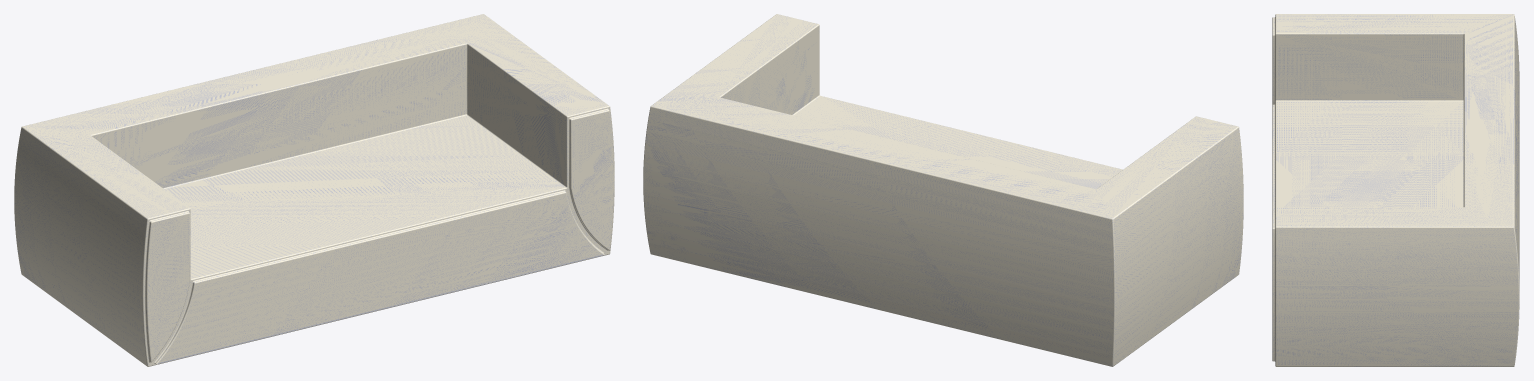
Rendered from sofa_frame.dae.
3 views of the same model, side by side, from view 1: azimuth 30°, elevation 25°; view 2: azimuth 150°, elevation 25°; view 3: azimuth 270°, elevation 25° (orthographic). The views are drawn at different scales.
Visible parts, largest first — view 1: group_0_001, group_0, group_0_002, group_0_003, group_0_007; view 2: group_0_001; view 3: group_0_001, group_0_003, group_0, group_0_002.
Boxes of the visible parts, bbox=[...] form: group_0_001: bbox=[14, 14, 614, 366]; group_0: bbox=[154, 190, 604, 364]; group_0_002: bbox=[144, 210, 189, 362]; group_0_003: bbox=[568, 108, 613, 250]; group_0_007: bbox=[158, 254, 603, 363]; group_0_001: bbox=[643, 14, 1243, 366]; group_0_001: bbox=[1275, 14, 1519, 366]; group_0_003: bbox=[1272, 210, 1275, 361]; group_0: bbox=[1272, 104, 1275, 361]; group_0_002: bbox=[1272, 17, 1275, 104].
Bounding box in the file's own units: 2 × 0.96 × 0.631.
